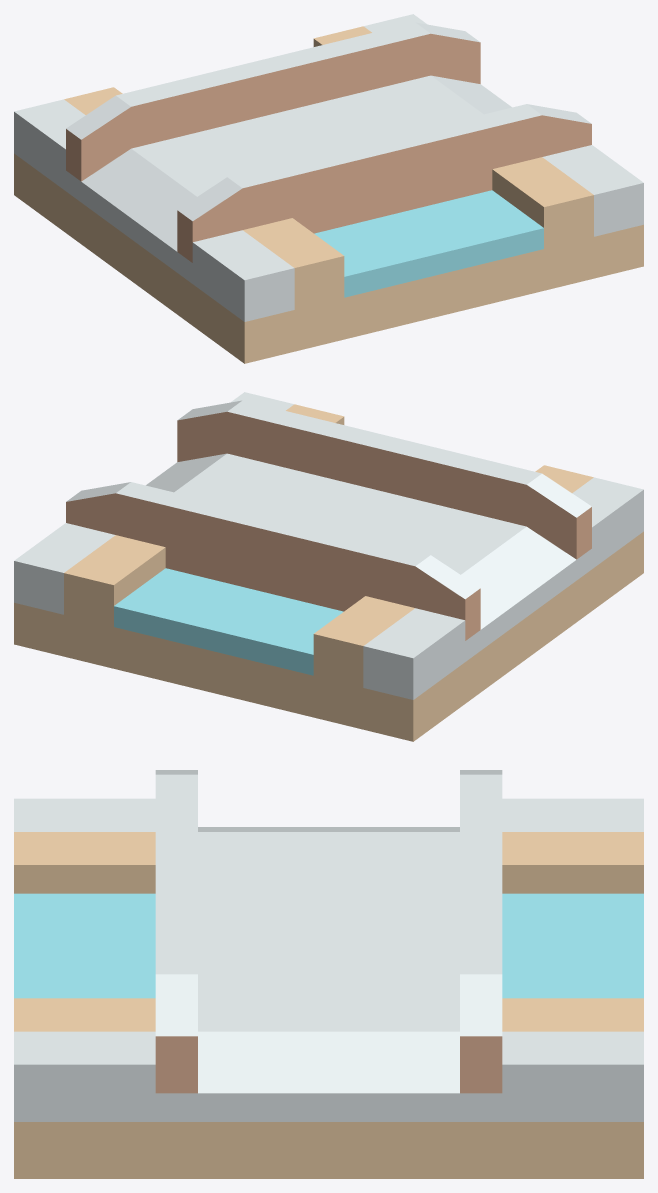
Rendered from snow_tile_riverBridge.glb.
3 views of the same model, one above another, from view 1: azimuth 30°, elevation 25°; view 2: azimuth 150°, elevation 25°; view 3: azimuth 270°, elevation 25° (orthographic). The views are drawn at different scales.
Parts seen in each view (by area): view 1: snow_tile_riverBridge; view 2: snow_tile_riverBridge; view 3: snow_tile_riverBridge.
Part boxes in pixels (bbox=[...]): snow_tile_riverBridge: bbox=[14, 14, 643, 363]; snow_tile_riverBridge: bbox=[14, 392, 643, 741]; snow_tile_riverBridge: bbox=[14, 770, 643, 1178].
Bounding box in the file's own units: 1 × 0.3 × 1.
